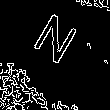N_SW: (26, 7, 81, 71)
